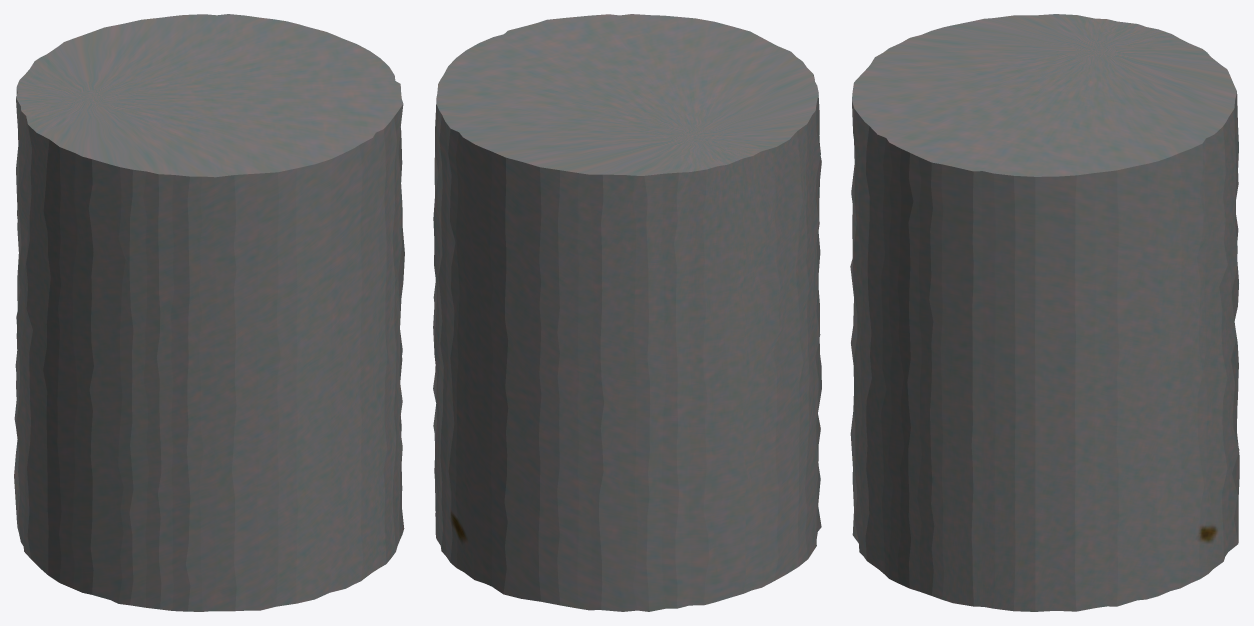
Rendered from barrel_25.dae.
The picture shows the model from 3 angles, left to right: view 1: azimuth 30°, elevation 25°; view 2: azimuth 150°, elevation 25°; view 3: azimuth 270°, elevation 25°; orthographic projection.
Parts seen in each view (by area): view 1: Cylinder; view 2: Cylinder; view 3: Cylinder.
Boxes of the visible parts, x1,y1,x2,y2 form: Cylinder: (14, 14, 404, 611); Cylinder: (433, 14, 821, 611); Cylinder: (850, 14, 1239, 611).
Size of the model in its own units: 0.8159 by 0.8109 by 1.
1 material, 1 textured.
